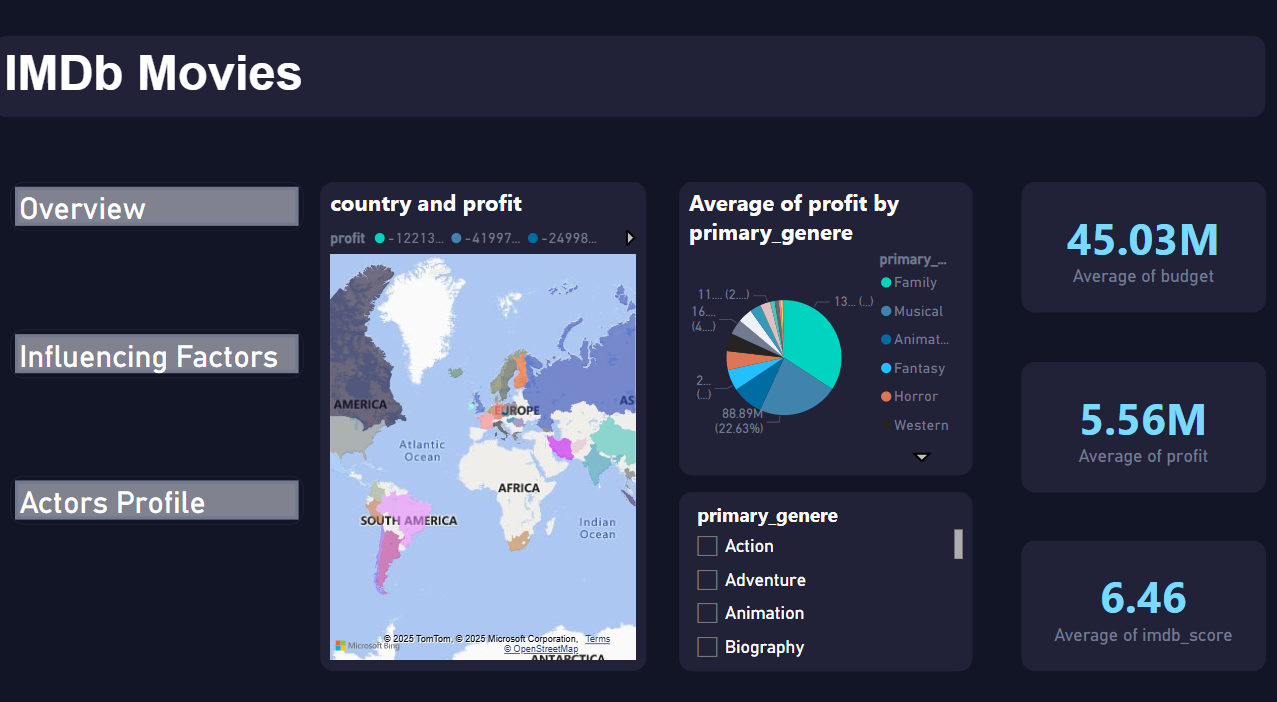

Layout of this report page (visuals, bound fields, positions):
{"tool":"powerbi","page":{"name":"Page 1","canvas":[1280,720],"ordinal":0},"visuals":[{"type":"pieChart","fields":{"Category":["IMDB_Movies (1).primary_genere"],"Y":["Avg(IMDB_Movies (1).profit)"]},"box":[672,192,288,288],"z":0},{"type":"slicer","fields":{"Values":["IMDB_Movies (1).primary_genere"]},"box":[672,496,288,176],"z":1000},{"type":"card","fields":{"Values":["Avg(IMDB_Movies (1).budget)"]},"box":[1008,192,240,128],"z":2000},{"type":"actionButton","box":[16,336,288,48],"z":3000},{"type":"textbox","box":[0,48,1248,80],"z":4000},{"type":"filledMap","fields":{"Category":["IMDB_Movies (1).country"],"Series":["IMDB_Movies (1).profit"]},"box":[320,192,320,480],"z":5000},{"type":"card","fields":{"Values":["Avg(IMDB_Movies (1).profit)"]},"box":[1008,368,240,128],"z":6000},{"type":"card","fields":{"Values":["Avg(IMDB_Movies (1).imdb_score)"]},"box":[1008,544,240,128],"z":7000},{"type":"actionButton","box":[16,192,288,48],"z":8000},{"type":"actionButton","box":[16,480,288,48],"z":10000}]}

Visuals, with their boxes in screenshot pixels (x1, y1, x2, y2), scaled from the page's 1280x720 canvas onto the 1277x702 screenshot:
pieChart - IMDB_Movies (1).primary_genere x Avg(IMDB_Movies (1).profit): 670, 187, 958, 468
slicer - IMDB_Movies (1).primary_genere: 670, 484, 958, 655
card - Avg(IMDB_Movies (1).budget): 1006, 187, 1245, 312
actionButton: 16, 328, 303, 374
textbox: 0, 47, 1245, 125
filledMap - IMDB_Movies (1).country x IMDB_Movies (1).profit: 319, 187, 638, 655
card - Avg(IMDB_Movies (1).profit): 1006, 359, 1245, 484
card - Avg(IMDB_Movies (1).imdb_score): 1006, 530, 1245, 655
actionButton: 16, 187, 303, 234
actionButton: 16, 468, 303, 515
